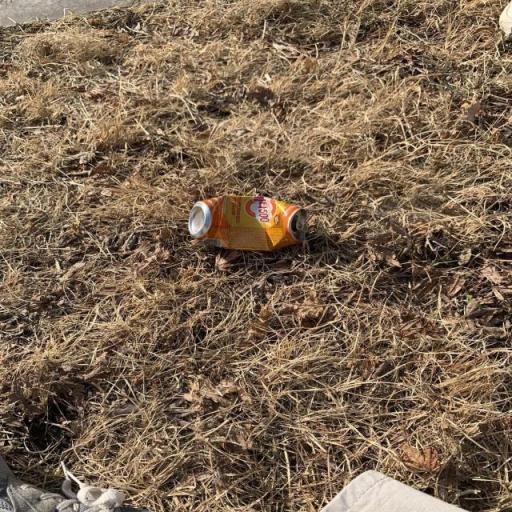metal: (148, 196, 346, 280)
